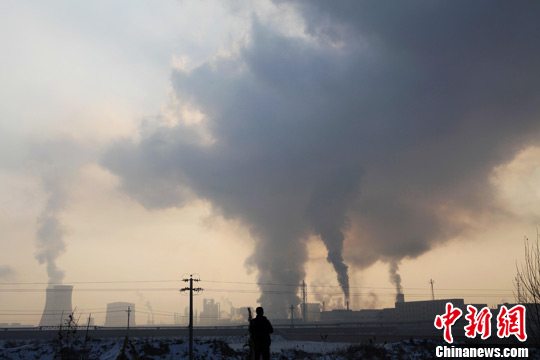dust: (33, 198, 83, 289), (365, 225, 421, 298), (313, 217, 356, 300)
